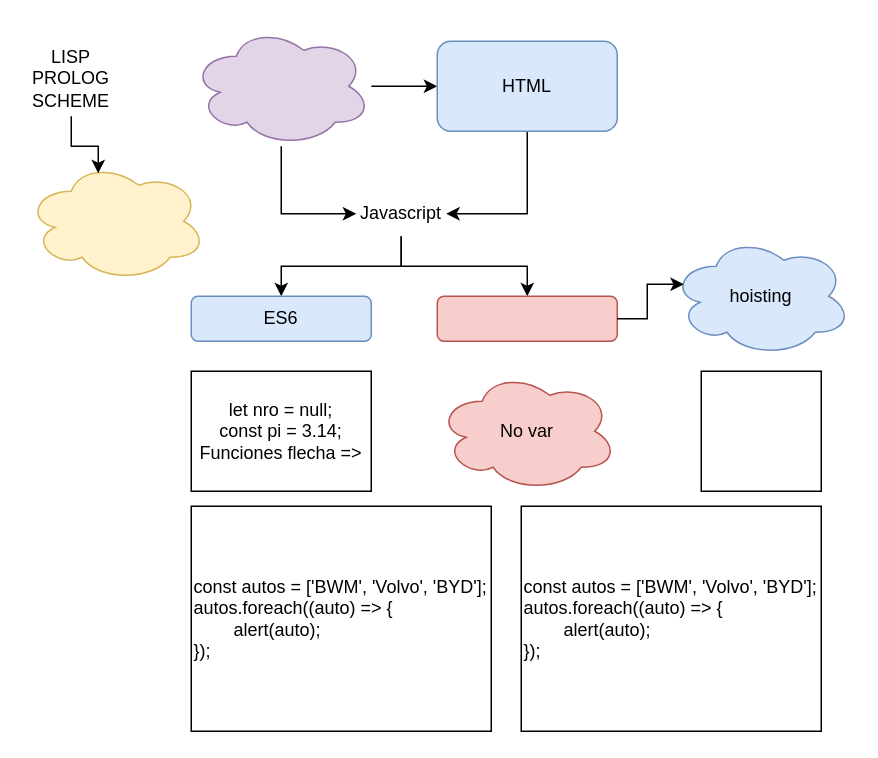
Image size: 878x758. Some labels were removed from this diagram. The centre of each missing label's shape, as x and y in pixels:
< ES6: pixel 526 318
Netscape: pixel 280 85
Orientación a Objetos: pixel 115 220
var nro = null; .... .... nro = f(x): pixel 760 430
